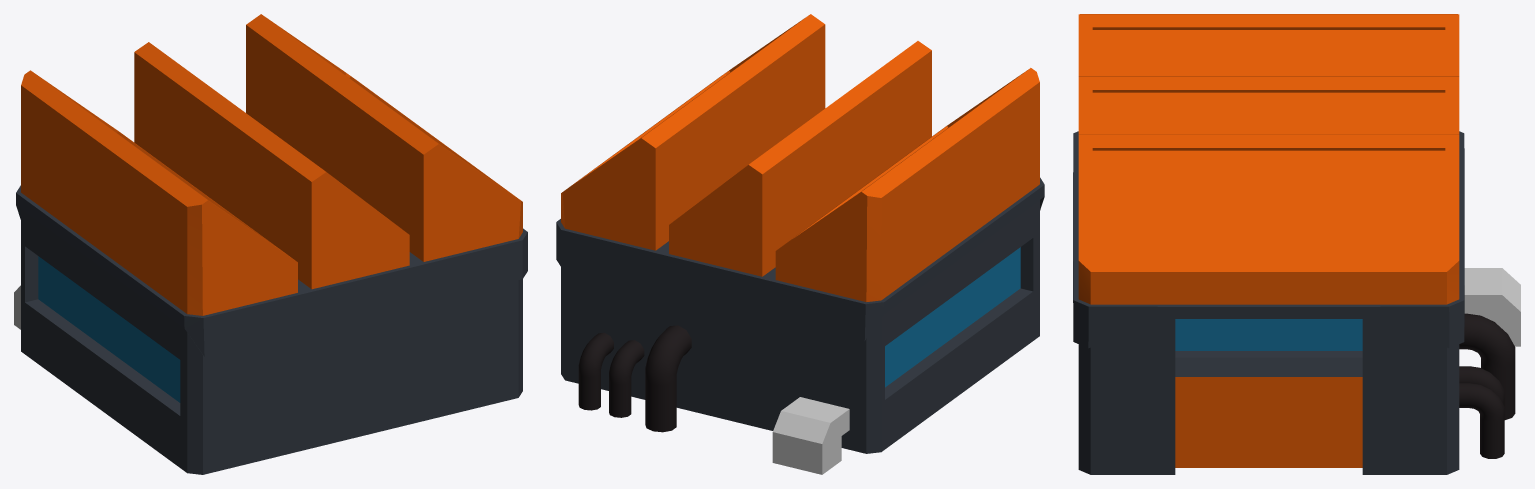
The model's file is Building_02.FBX.
The picture shows the model from 3 angles, left to right: view 1: azimuth 30°, elevation 25°; view 2: azimuth 150°, elevation 25°; view 3: azimuth 270°, elevation 25°; orthographic projection. The views are drawn at different scales.
Parts seen in each view (by area): view 1: Building_02; view 2: Building_02; view 3: Building_02.
Part boxes in pixels (x1,y1,x2,y2): Building_02: [14, 14, 527, 474]; Building_02: [556, 14, 1044, 474]; Building_02: [1073, 14, 1520, 474].
Size of the model in its own units: 22.32 by 16.84 by 22.88.
